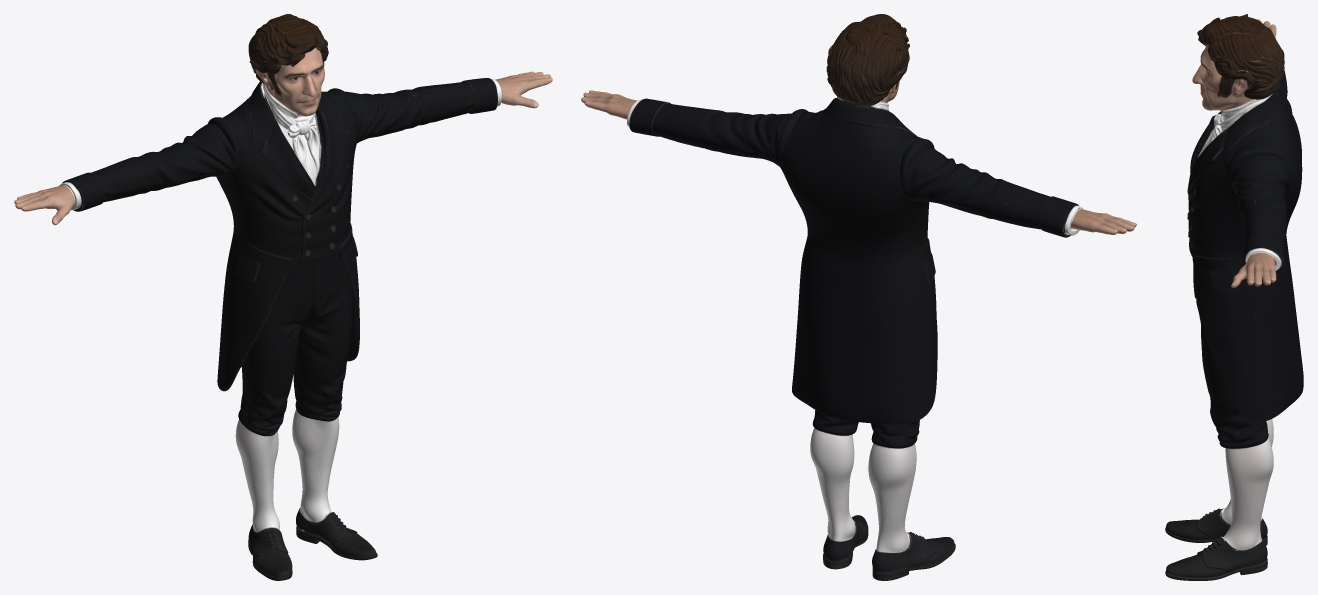
Rendered from joseph-smith-sr-source.glb.
3 renders of one model, left to right at view 1: azimuth 30°, elevation 25°; view 2: azimuth 150°, elevation 25°; view 3: azimuth 270°, elevation 25°, orthographic. The views are drawn at different scales.
Size of the model in its own units: 1.9 by 1.8 by 0.4219.
Materials: 1 (1 with a texture image).
